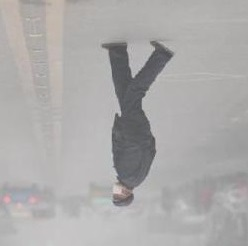person: (100, 39, 175, 208)
